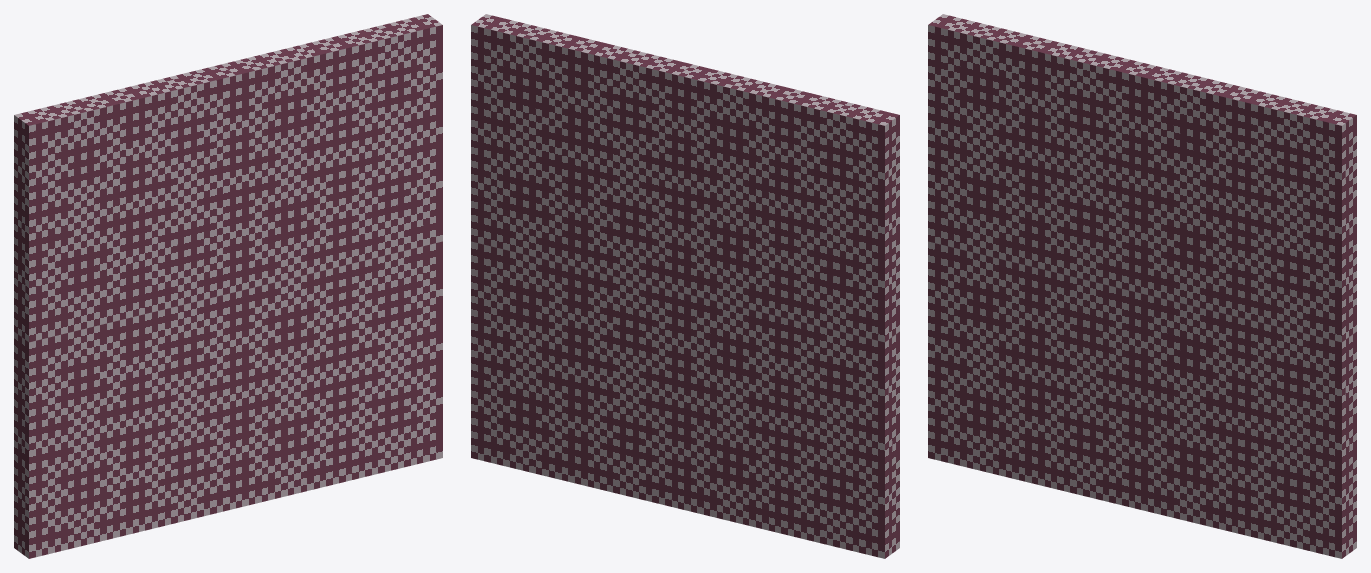
Rendered from wall_textured_b_4_col.gltf.
3 views of the same model, side by side, from view 1: azimuth 30°, elevation 25°; view 2: azimuth 150°, elevation 25°; view 3: azimuth 330°, elevation 25° (orthographic).
Parts seen in each view (by area): view 1: wall_textured_b_4_col; view 2: wall_textured_b_4_col; view 3: wall_textured_b_4_col.
Part boxes in pixels (x1,y1,x2,y2): wall_textured_b_4_col: (14, 14, 442, 558); wall_textured_b_4_col: (471, 14, 899, 558); wall_textured_b_4_col: (928, 14, 1356, 558).
Size of the model in its own units: 4 by 4 by 0.25.
Materials: 1 (1 with a texture image).
